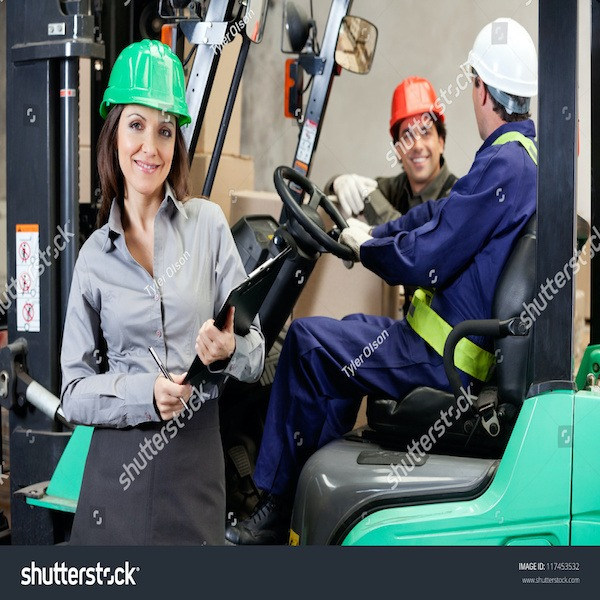helmet: (104, 39, 197, 114), (469, 20, 541, 101), (390, 79, 446, 125)
